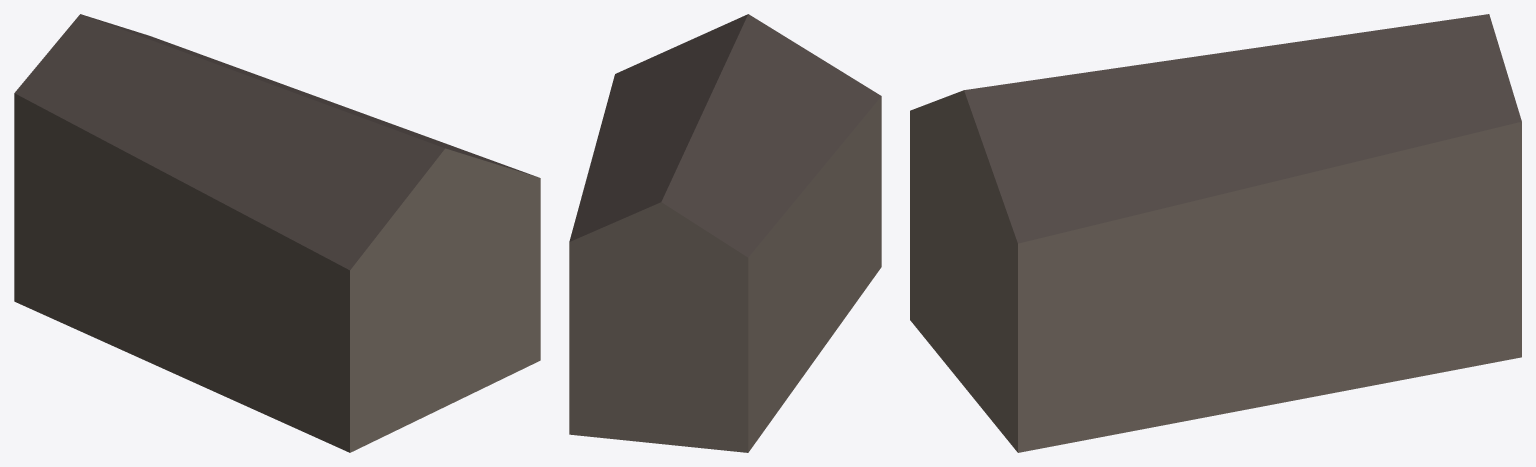
3 renders of one model, left to right at view 1: azimuth 30°, elevation 25°; view 2: azimuth 150°, elevation 25°; view 3: azimuth 270°, elevation 25°, orthographic. The views are drawn at different scales.
Visible parts, largest first — view 1: HP-w859457422; view 2: HP-w859457422; view 3: HP-w859457422.
Boxes of the visible parts, <box> form: HP-w859457422: <box>14,14,540,452</box>; HP-w859457422: <box>569,14,881,452</box>; HP-w859457422: <box>910,14,1521,452</box>.
Bounding box in the file's own units: 11.5 × 8.5 × 15.9.
